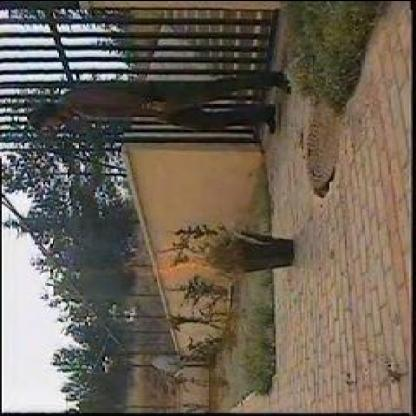foggia-v2-map80-epoch100 - v1 4323: (150, 254, 206, 280)
